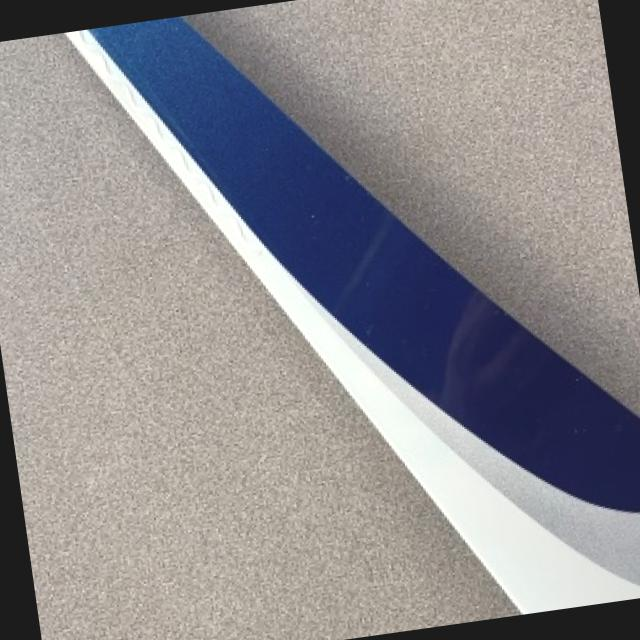healthy: (0, 33, 518, 640), (193, 0, 640, 407)
